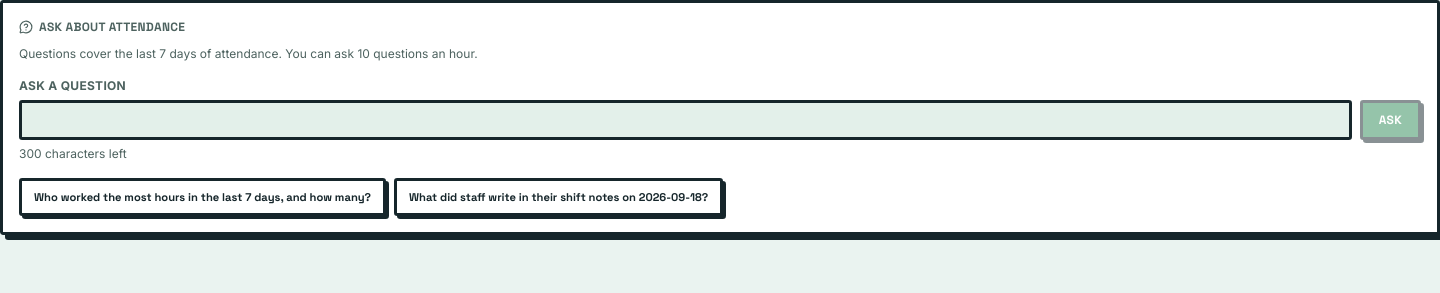
AskCard › rounds Retry-After 1s up to 1 minutes and locks the controls
Click the button "Who worked the most hours in the last 7 days, and how many?": (202, 197) 19,178 -> 386,216
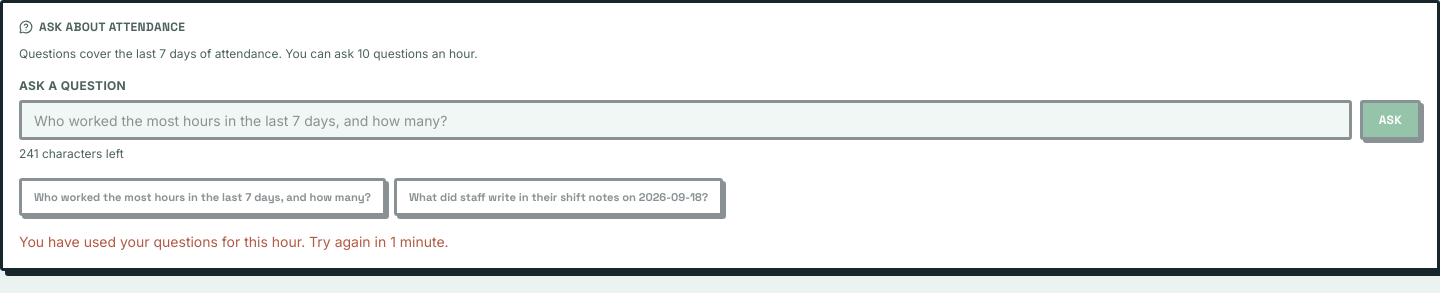
Expected: the message shows "Try again in 1 minute", 19,233 -> 449,250
Expected: the button "What did staff write in their shift notes on 2026-09-18?" is disabled, 394,178 -> 723,216
Expected: the field labelled "Ask a question" is disabled, 19,100 -> 1352,140
